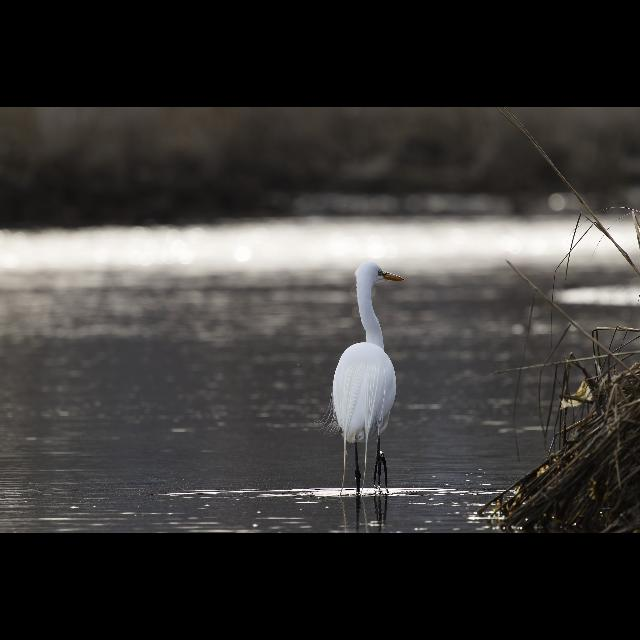egret: (329, 262, 407, 500)
